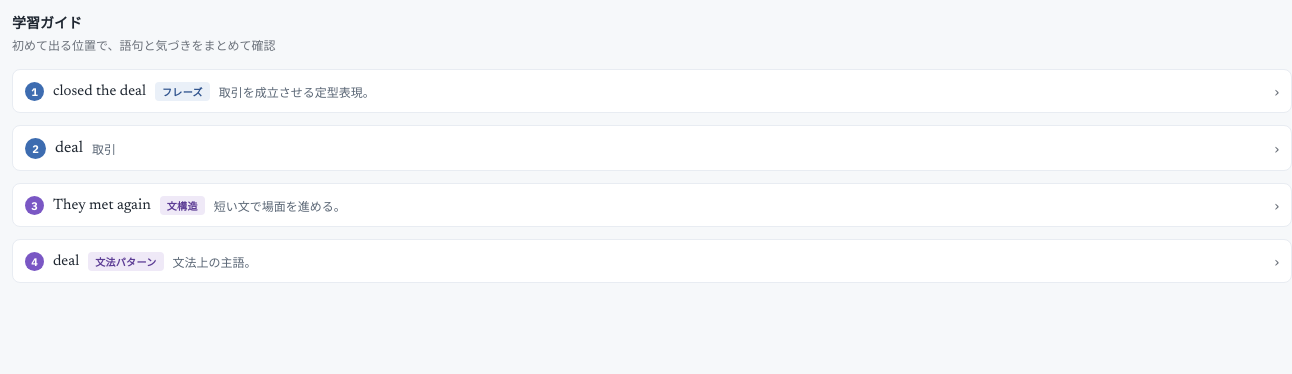
Test: <ReadingGuideRail/> › renders cards collapsed and expands the detail on click (D-1 compact cards)
Expected: the element with test id "guide-item-notice:1" shows "取引を成立させる定型表現。", left=25, top=81, right=1279, bottom=101
Click the element with test id "guide-item-notice:1" at (652, 91), box left=12, top=69, right=1291, bottom=113
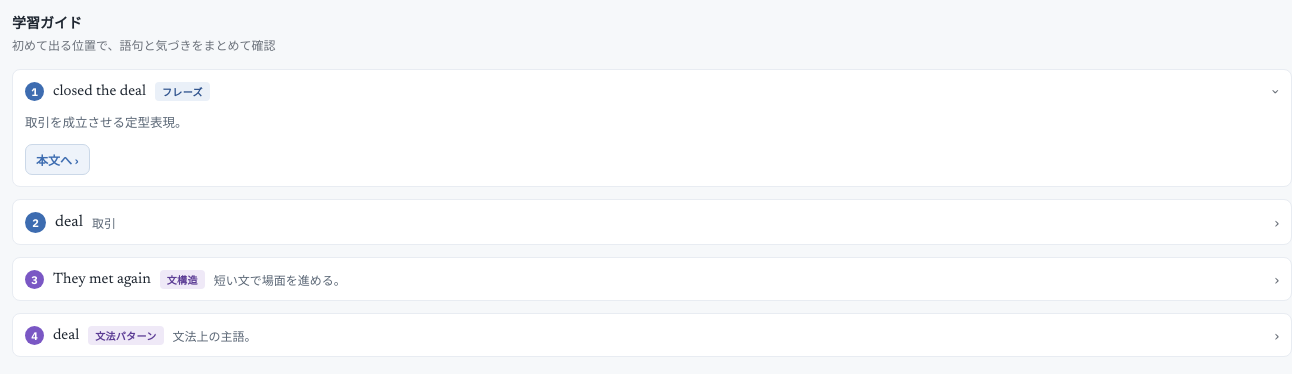
Expected: the element with test id "guide-item-notice:1" is expanded
Expected: the button with test id "guide-notice-jump-1" is shown, left=25, top=144, right=90, bottom=175
Clicking again collapses it.
Click the element with test id "guide-item-notice:1" at (652, 128), box left=12, top=69, right=1291, bottom=187
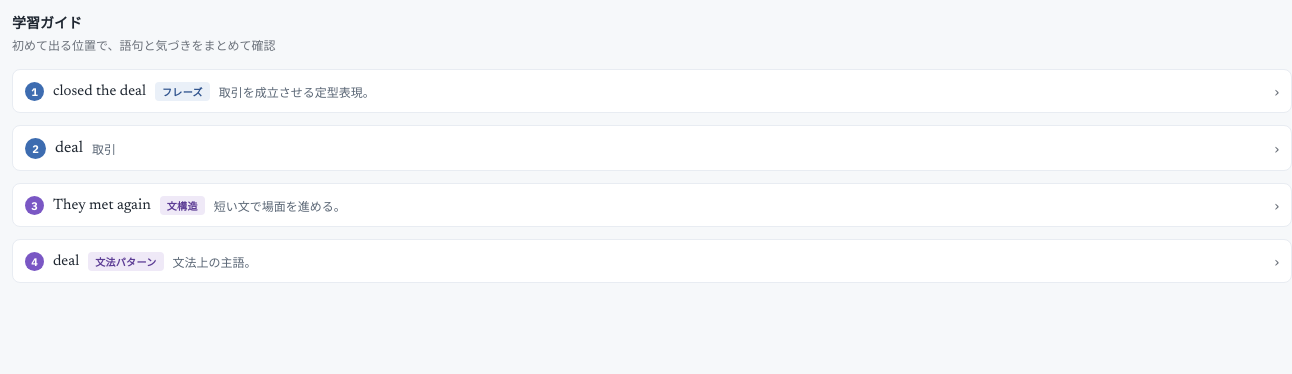
Expected: the element with test id "guide-item-notice:1" is collapsed, left=12, top=69, right=1291, bottom=113
